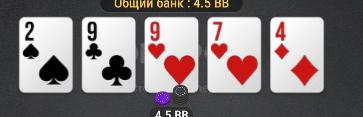2s: (20, 19, 72, 92)
4d: (272, 18, 323, 93)
7h: (209, 18, 260, 92)
9c: (83, 19, 134, 92)
9h: (146, 19, 198, 92)
